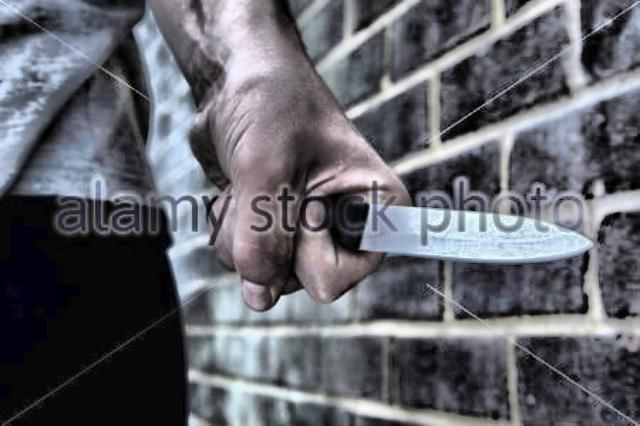knife: (232, 170, 608, 314)
